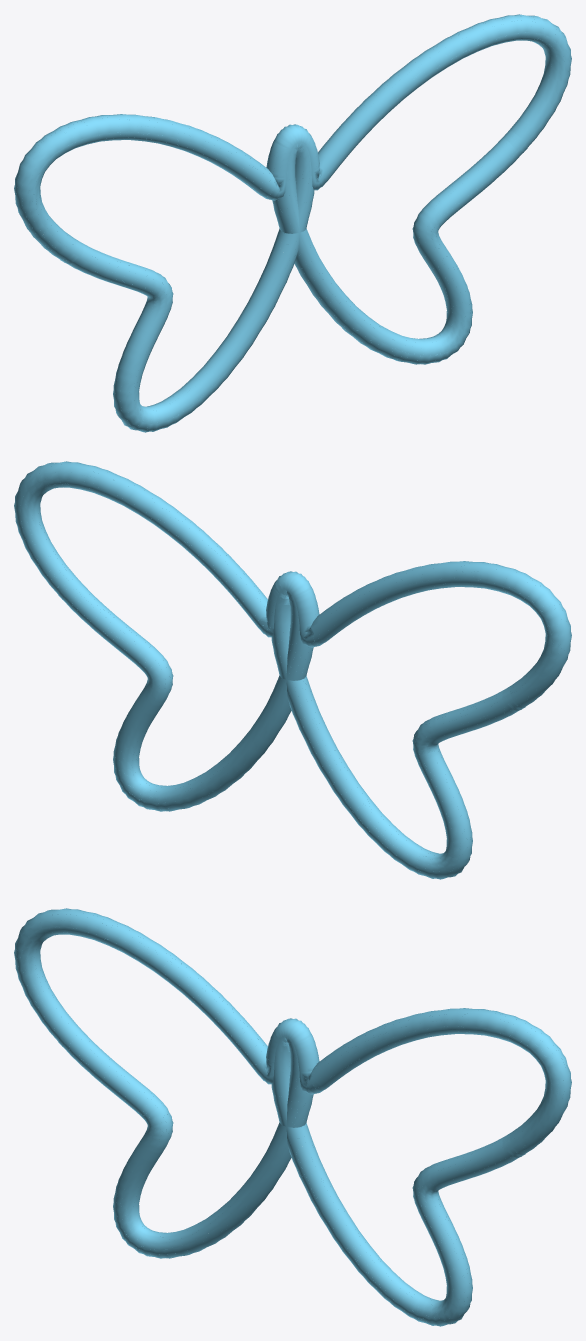
File: borboleta2.glb
The picture shows the model from 3 angles, top to bottom: view 1: azimuth 30°, elevation 25°; view 2: azimuth 150°, elevation 25°; view 3: azimuth 330°, elevation 25°; orthographic projection.
Parts seen in each view (by area): view 1: MyParametricCurve.001, MyParametricCurve; view 2: MyParametricCurve.001, MyParametricCurve; view 3: MyParametricCurve, MyParametricCurve.001.
Part boxes in pixels (x1,y1,x2,y2): MyParametricCurve.001: (14, 114, 314, 432); MyParametricCurve: (272, 14, 571, 364); MyParametricCurve.001: (271, 561, 571, 879); MyParametricCurve: (14, 461, 313, 811); MyParametricCurve: (271, 1008, 571, 1326); MyParametricCurve.001: (14, 908, 313, 1258).
Bounding box in the file's own units: 7.47 × 4.22 × 0.3.
